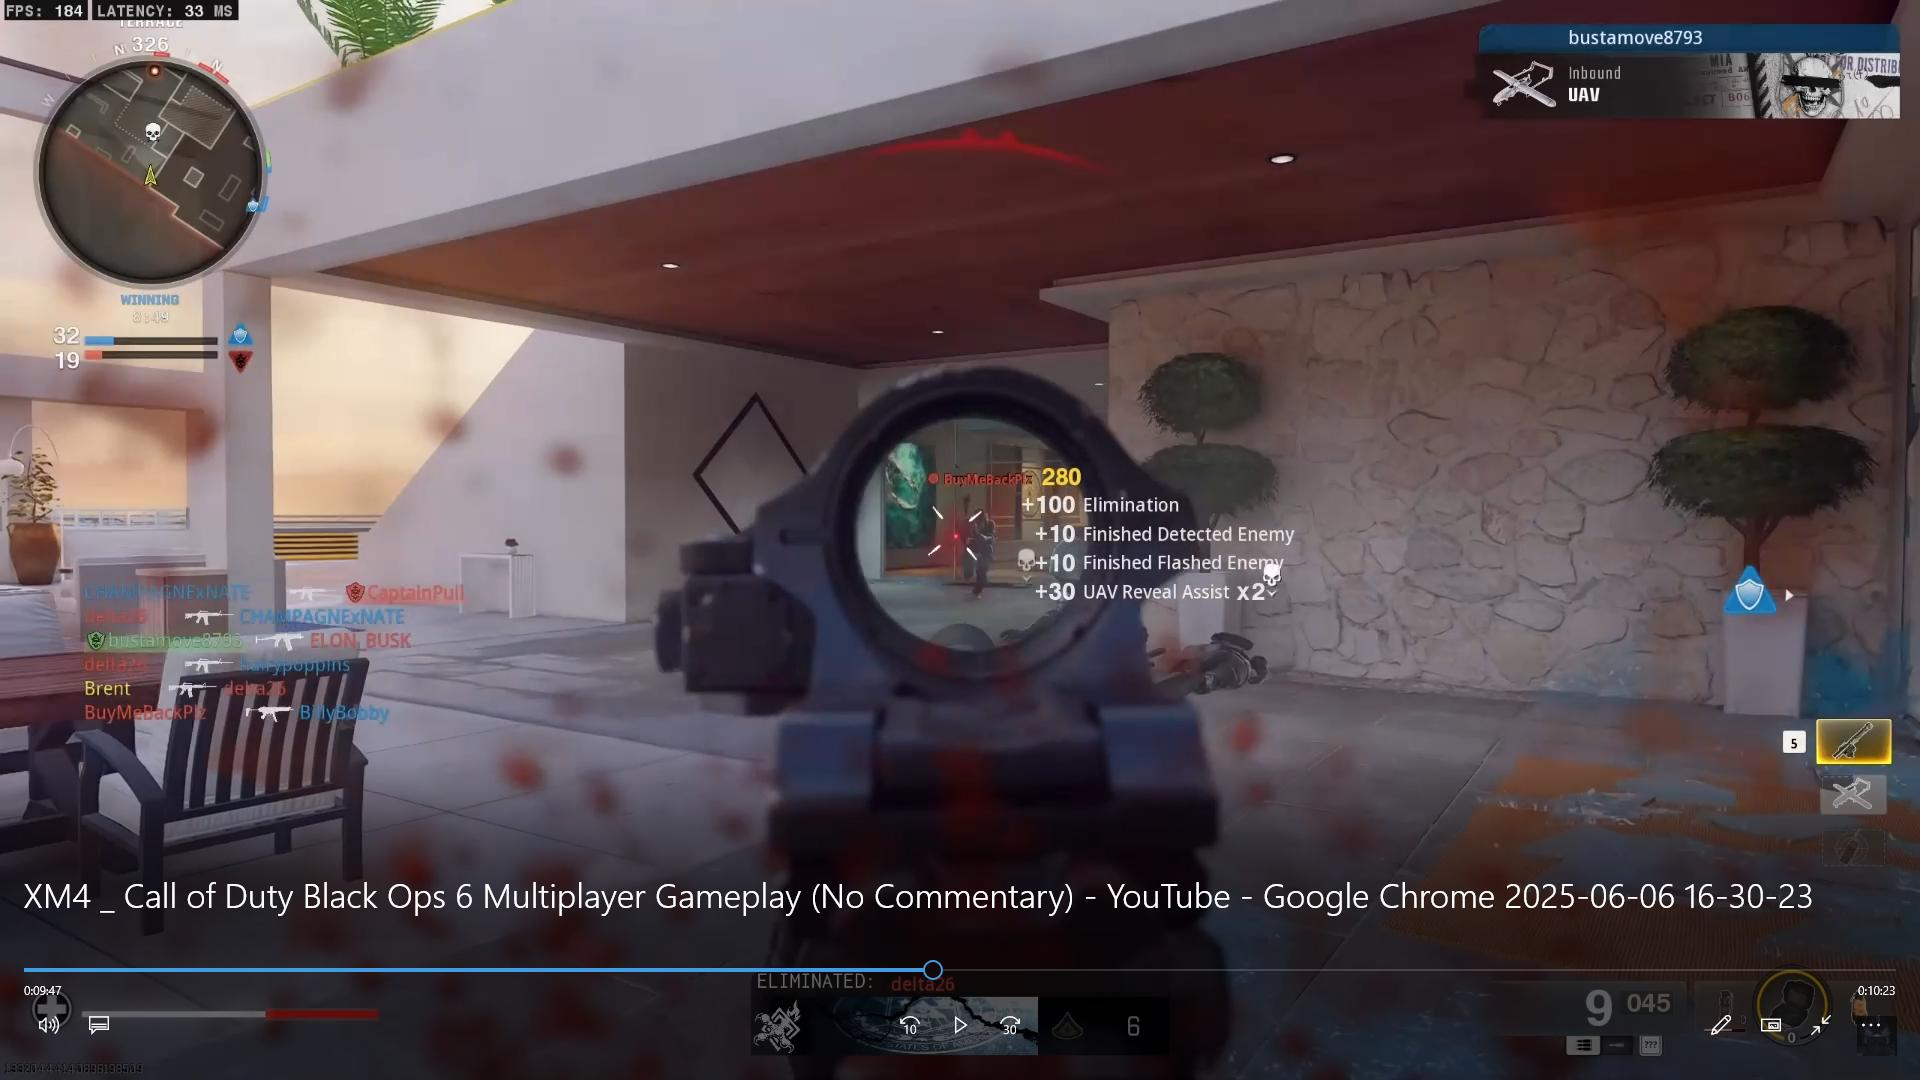Enemy: (956, 498, 1010, 601)
